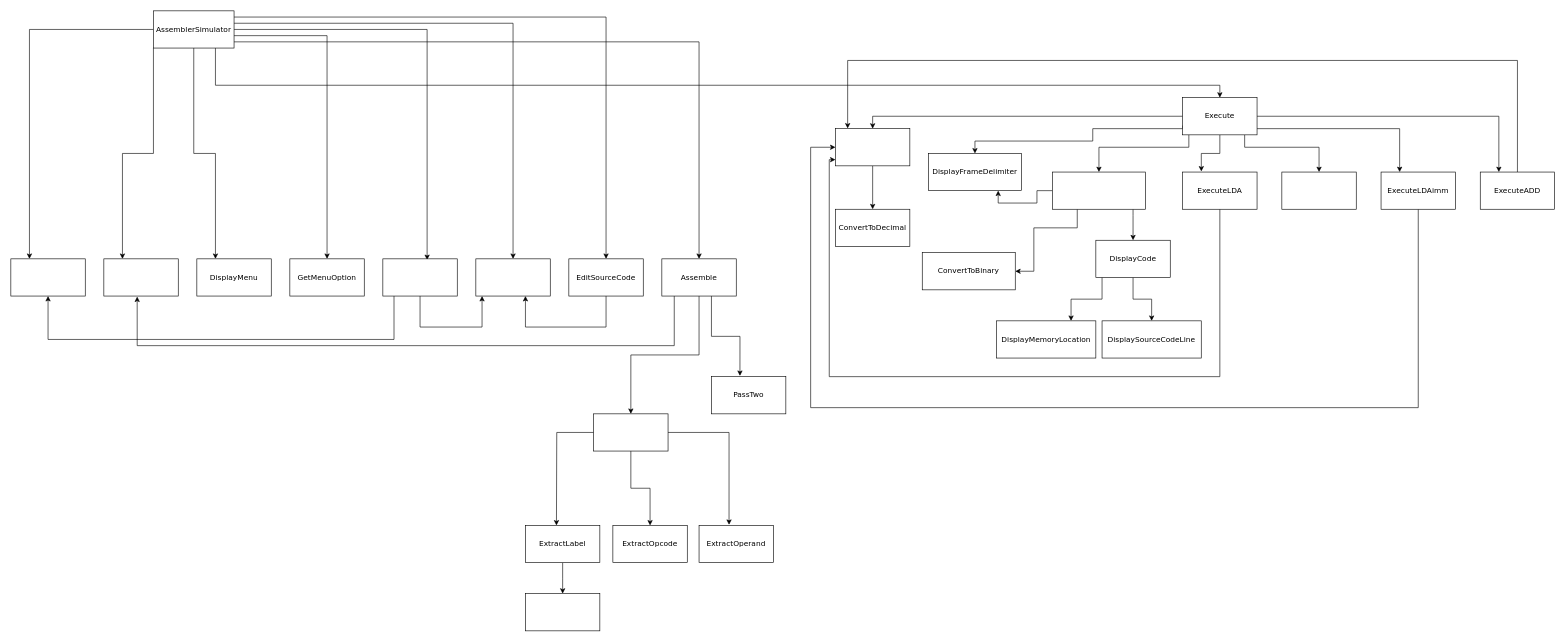
Some shapes in this 1566 by 642 pixel diagram are drawn without their labels. The shapes that lost their labels are listed below. From the top down, each one's centre as x and y in pixels, then its label:
pixel 872 147: SetFlags
pixel 1098 190: DisplayCurrentState
pixel 1318 190: ExecuteSTA
pixel 47 277: ResetSourceCode
pixel 140 277: ResetMemory
pixel 419 277: LoadFile
pixel 512 277: DisplaySourceCode
pixel 630 432: PassOne
pixel 562 612: UpdateSymbolTable
